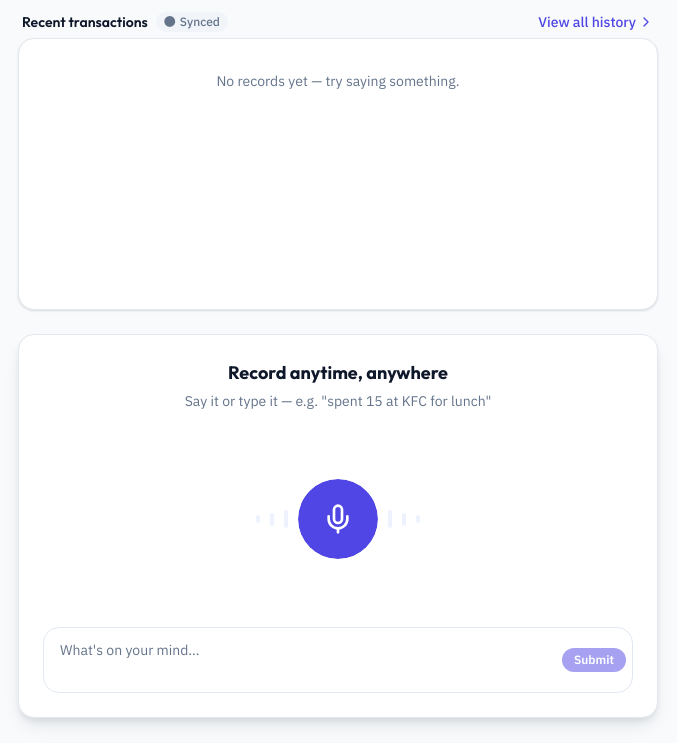
Scenario: 乐观 UI › 提交瞬间出现占位行，不等待接口返回
This screenshot has width=677, height=743.
In the text box: (307, 660) 60,634 -> 554,686, type "早餐麦当劳25"
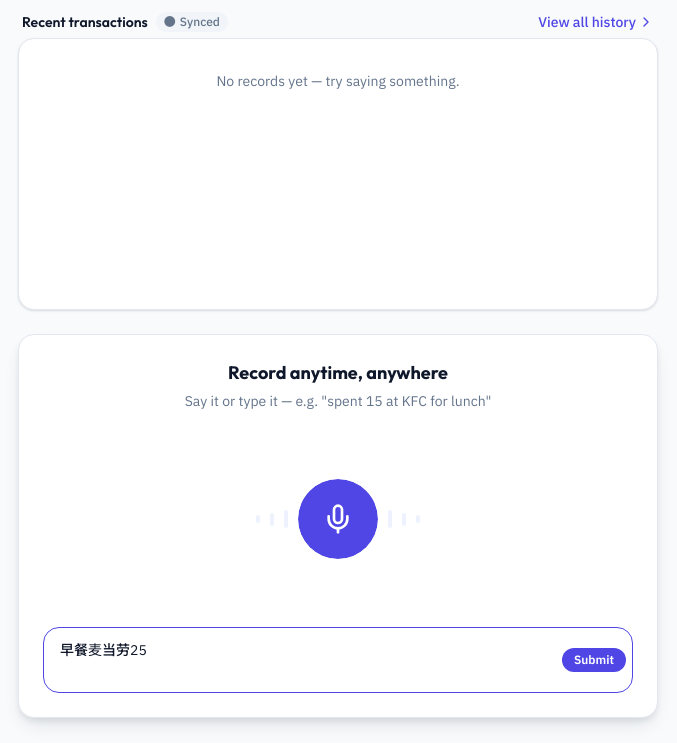
Click the button "Submit": (594, 660) 562,648 -> 626,672
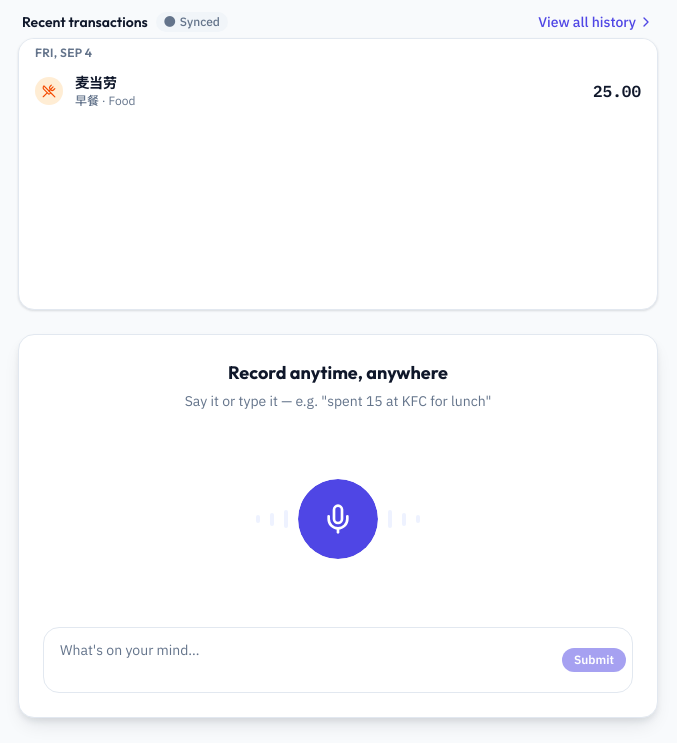
Check: the text "麦当劳" is shown, box 75,73 -> 117,93
